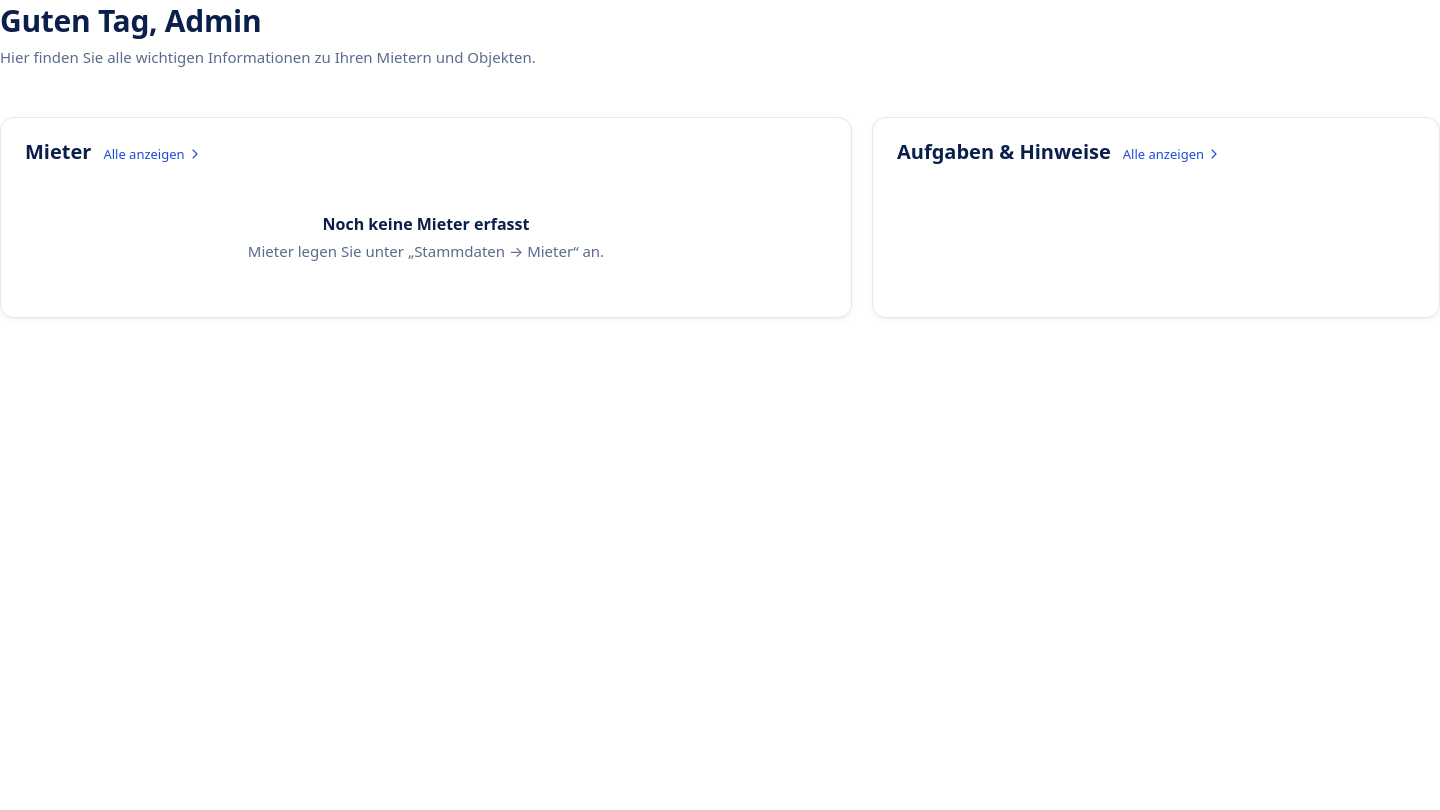
Test: Dashboard: Popups und keine Demo-Leiste › Mieter- und Aufgaben-Block sowie Wirtschaftlicher Überblick sind anklickbar (Titel und freie Fläche)
The width and height of the screenshot is (1440, 810).
Click the button "Mieter Alle anzeigen": (114, 152) [25,138,203,165]
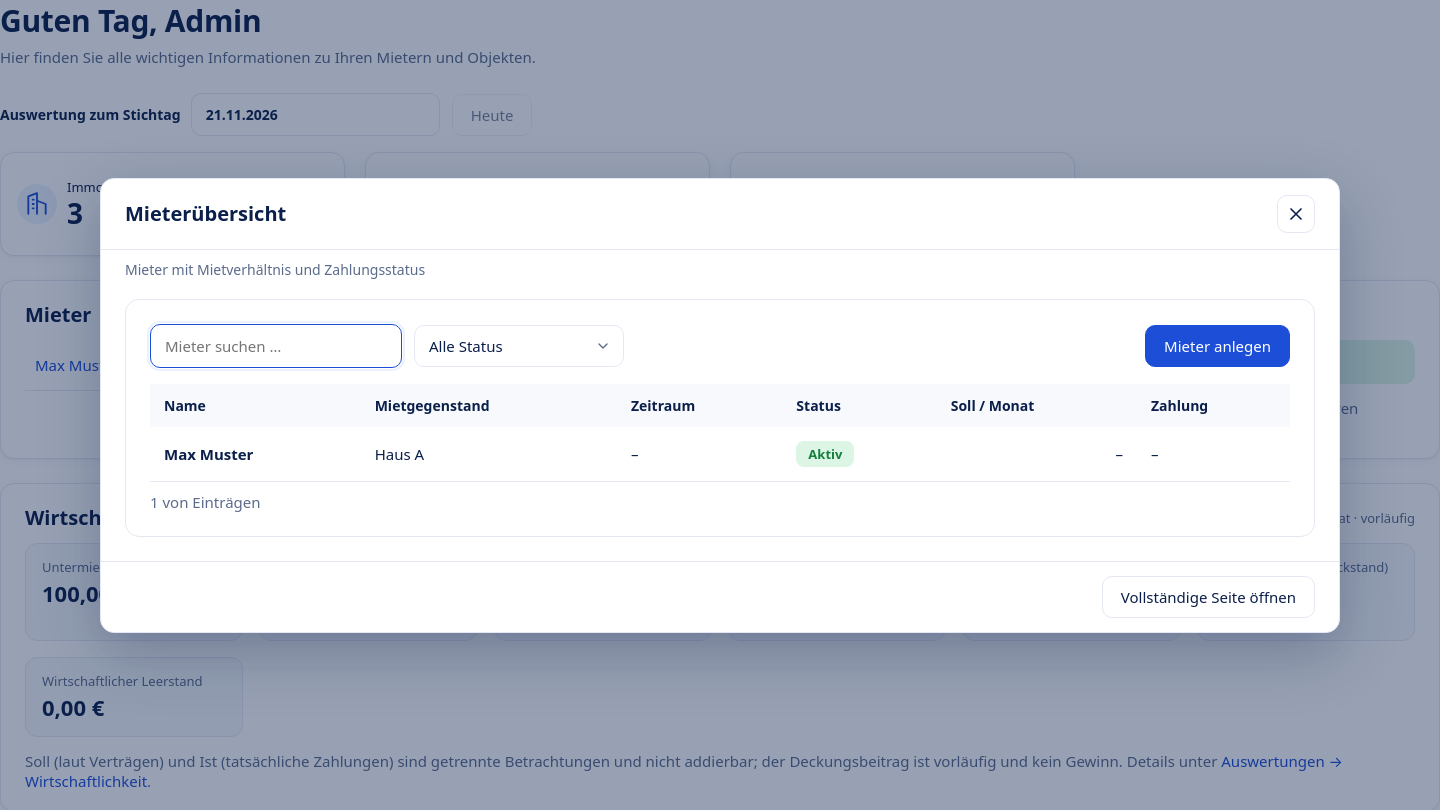
expect the dialog "Mieterübersicht" is shown: met, box [100,178,1340,632]
Press Escape
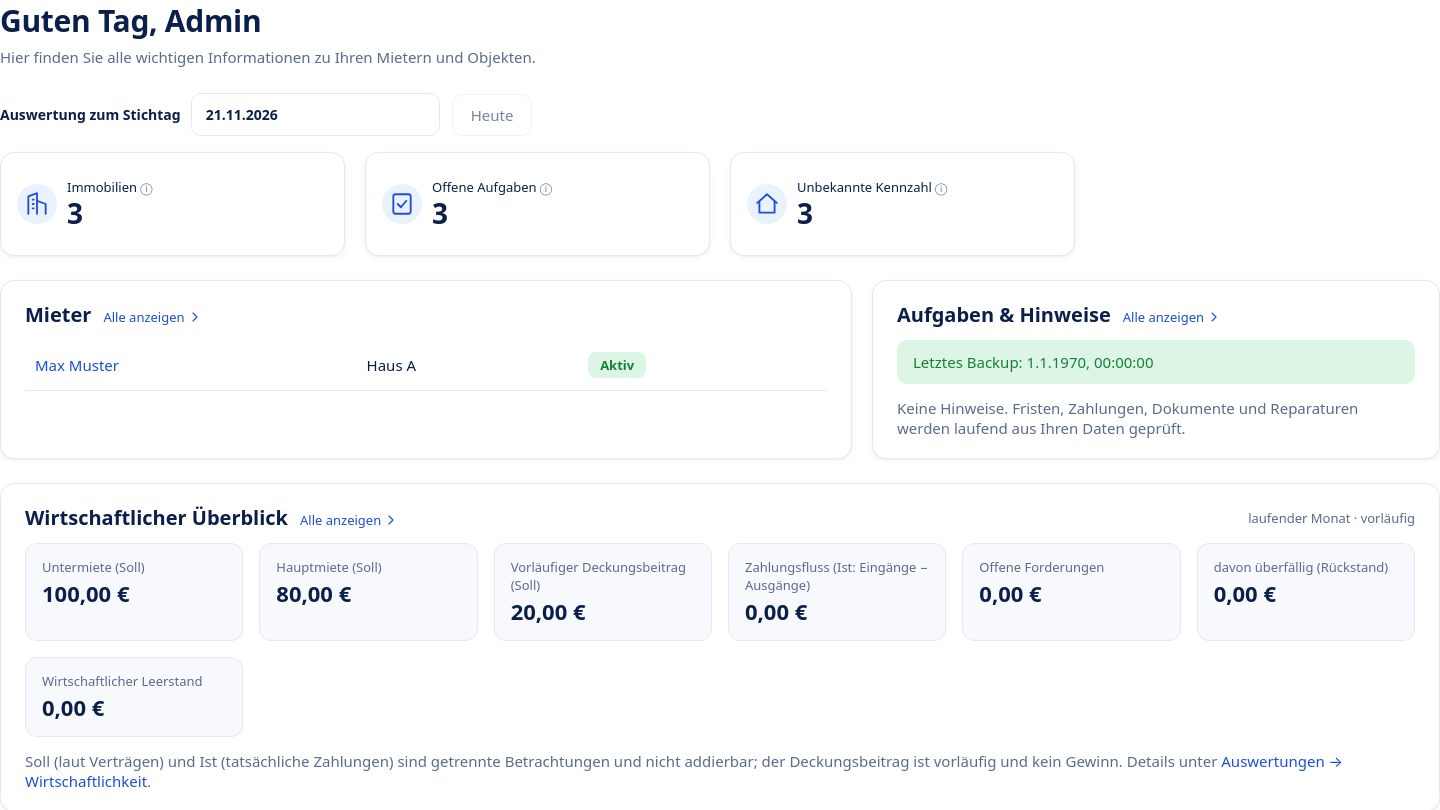
expect the dialog is gone: met
Click the element with class "block-body" that starts with "Letztes Backup:": (1156, 399) [873,340,1439,458]
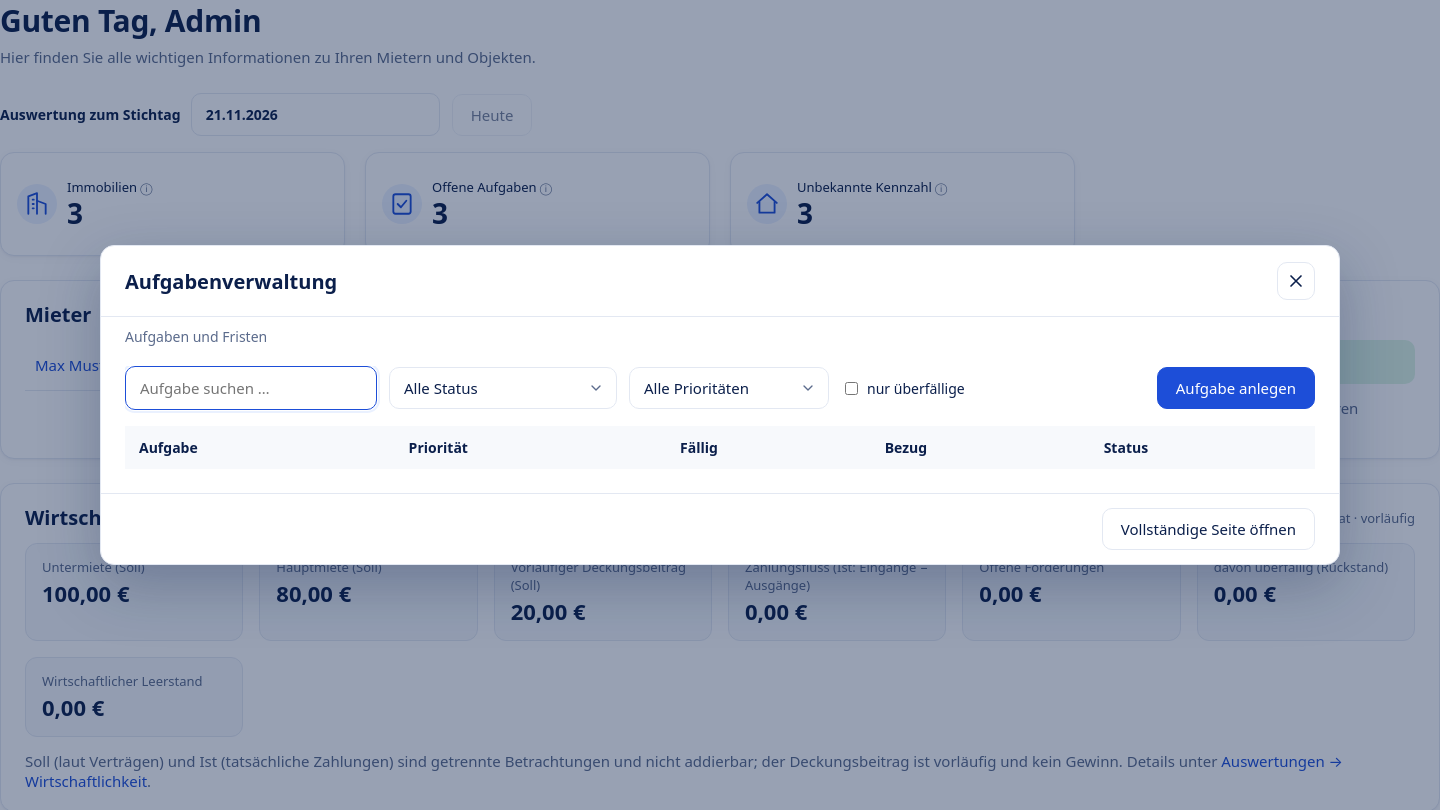
expect the dialog "Aufgabenverwaltung" is shown: met, box [100,245,1340,565]
Press Escape
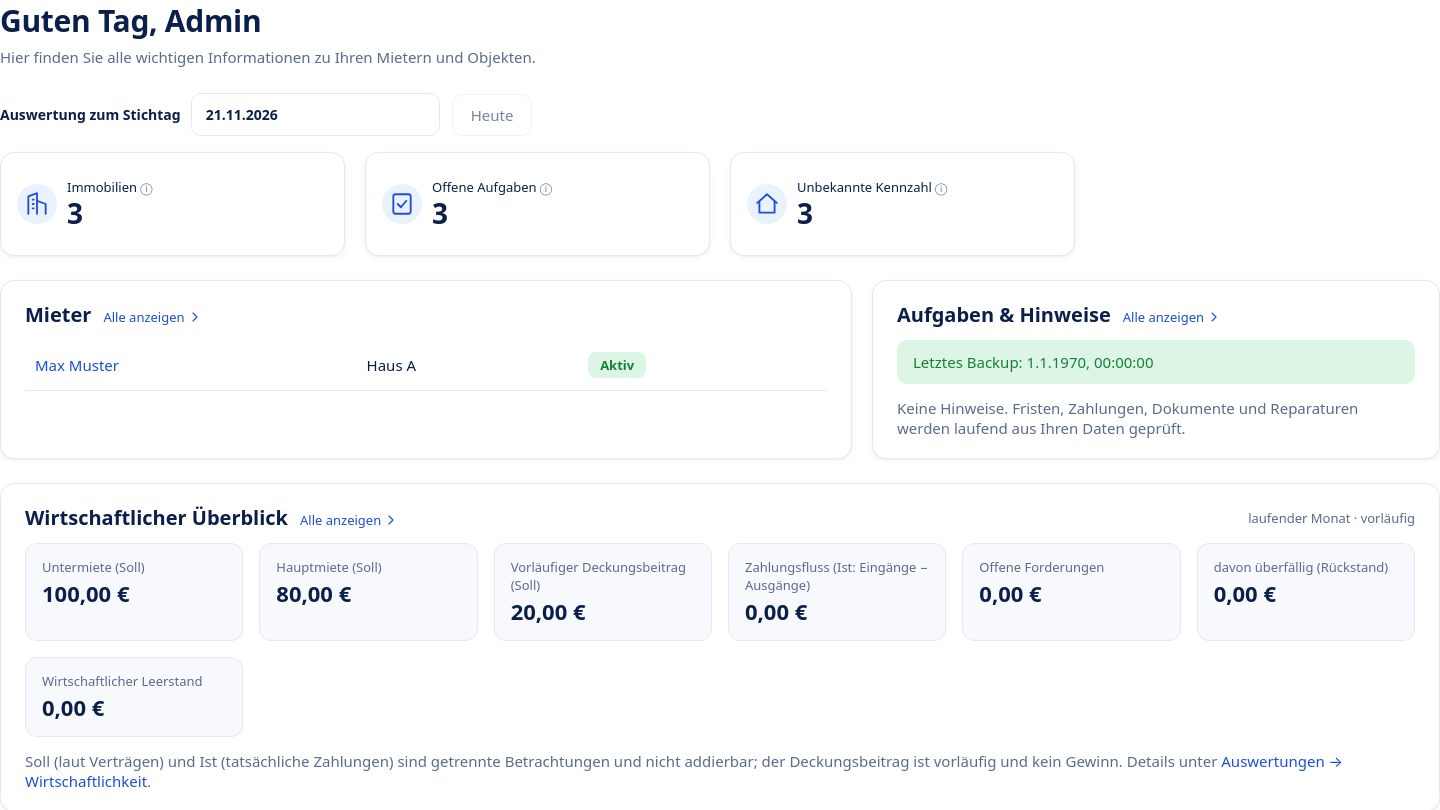
expect the dialog is gone: met
Click the button "Wirtschaftlicher Überblick Alle anzeigen": (212, 518) [25,504,399,531]
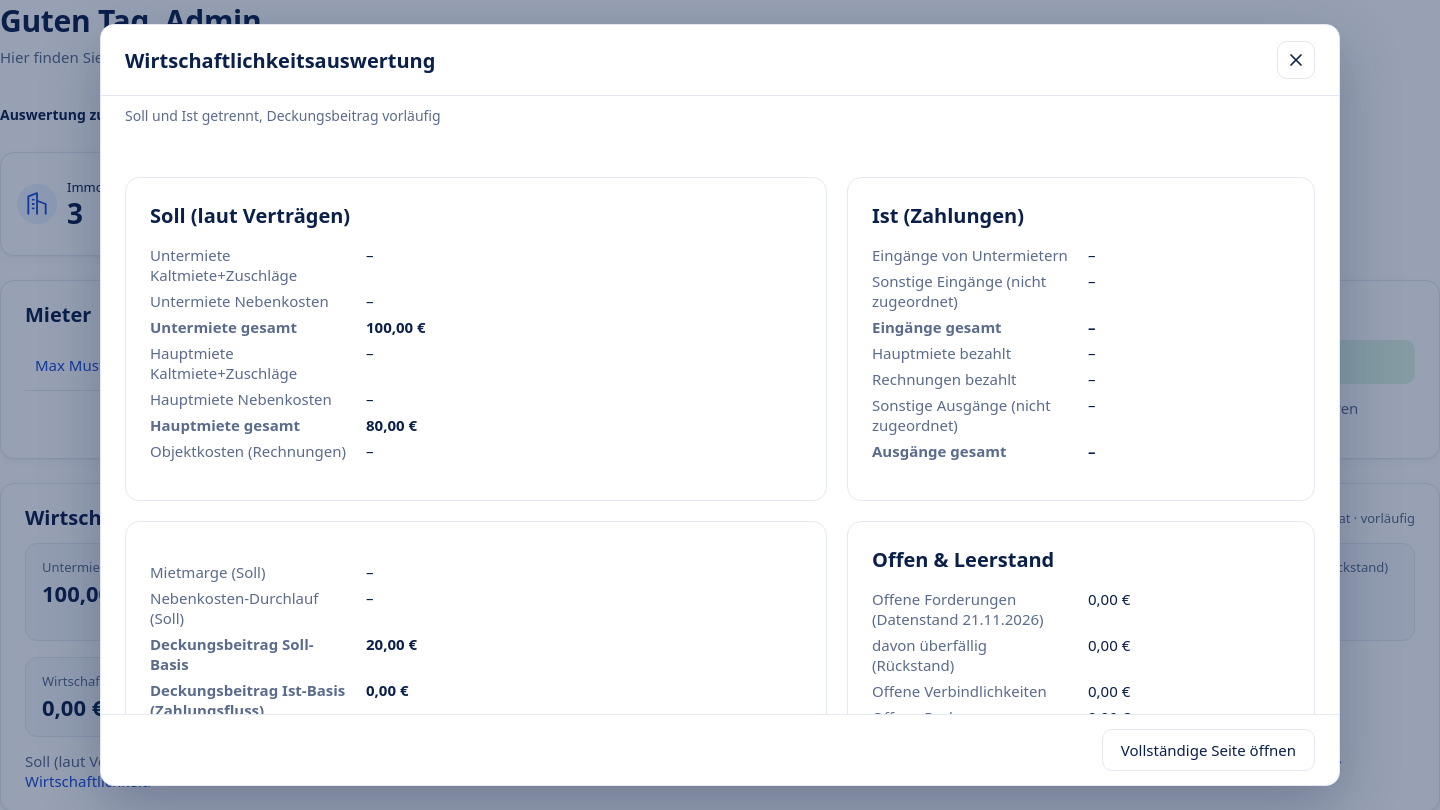
expect the dialog "Wirtschaftlichkeitsauswertung" is shown: met
